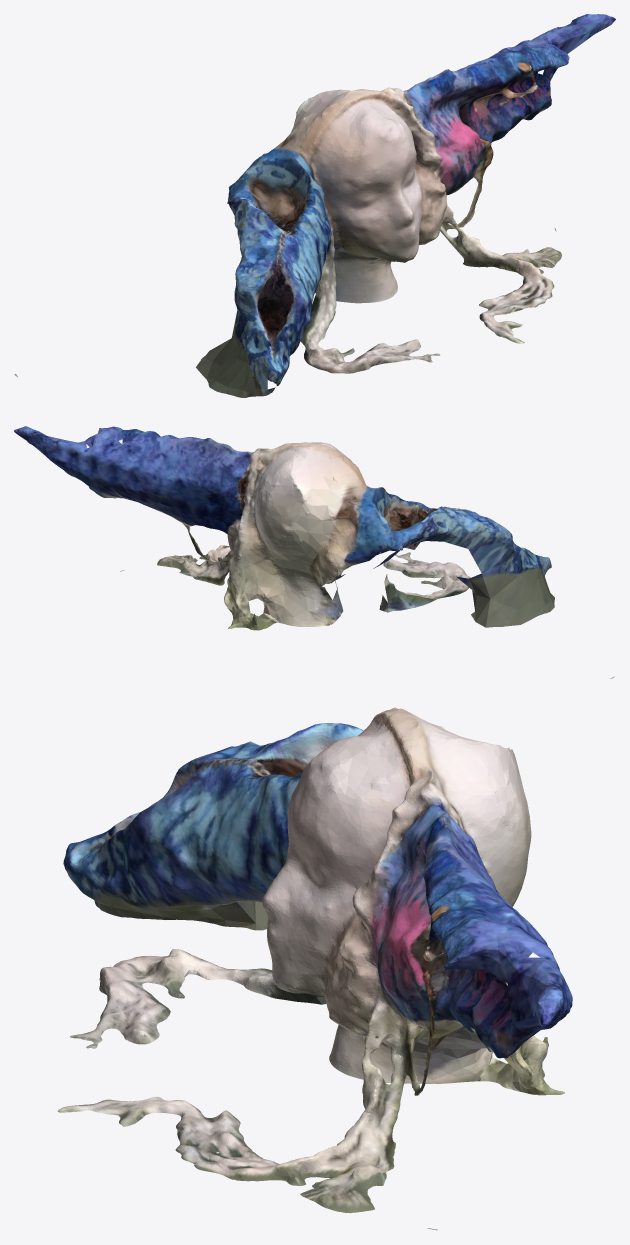
File: Myah_Goris.glb
3 views of the same model, one above another, from view 1: azimuth 30°, elevation 25°; view 2: azimuth 150°, elevation 25°; view 3: azimuth 270°, elevation 25° (orthographic). The views are drawn at different scales.
Parts seen in each view (by area): view 1: mesh.004; view 2: mesh.004; view 3: mesh.004.
Boxes of the visible parts, <box> form: mesh.004: <box>14,14,615,397</box>; mesh.004: <box>14,426,614,678</box>; mesh.004: <box>57,707,572,1230</box>.
Bounding box in the file's own units: 9.64 × 2.74 × 3.85.
1 material, 1 textured.
